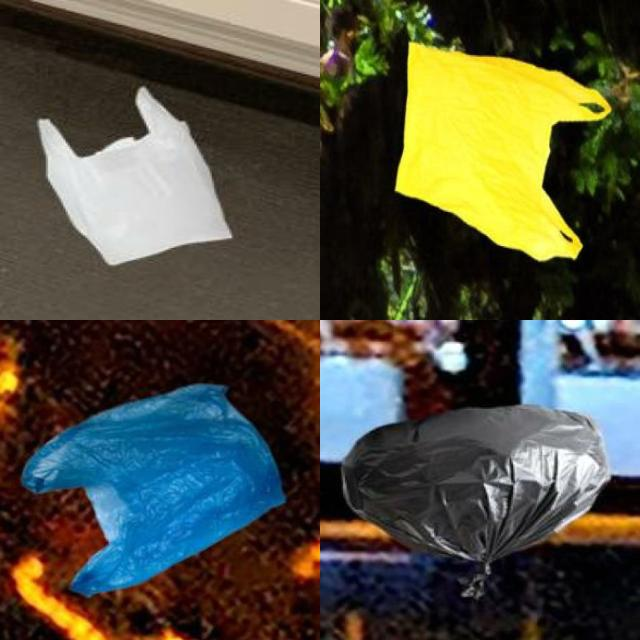Single-layer Plastic: (22, 384, 285, 596), (344, 405, 610, 598), (395, 42, 611, 261), (38, 86, 231, 264)
